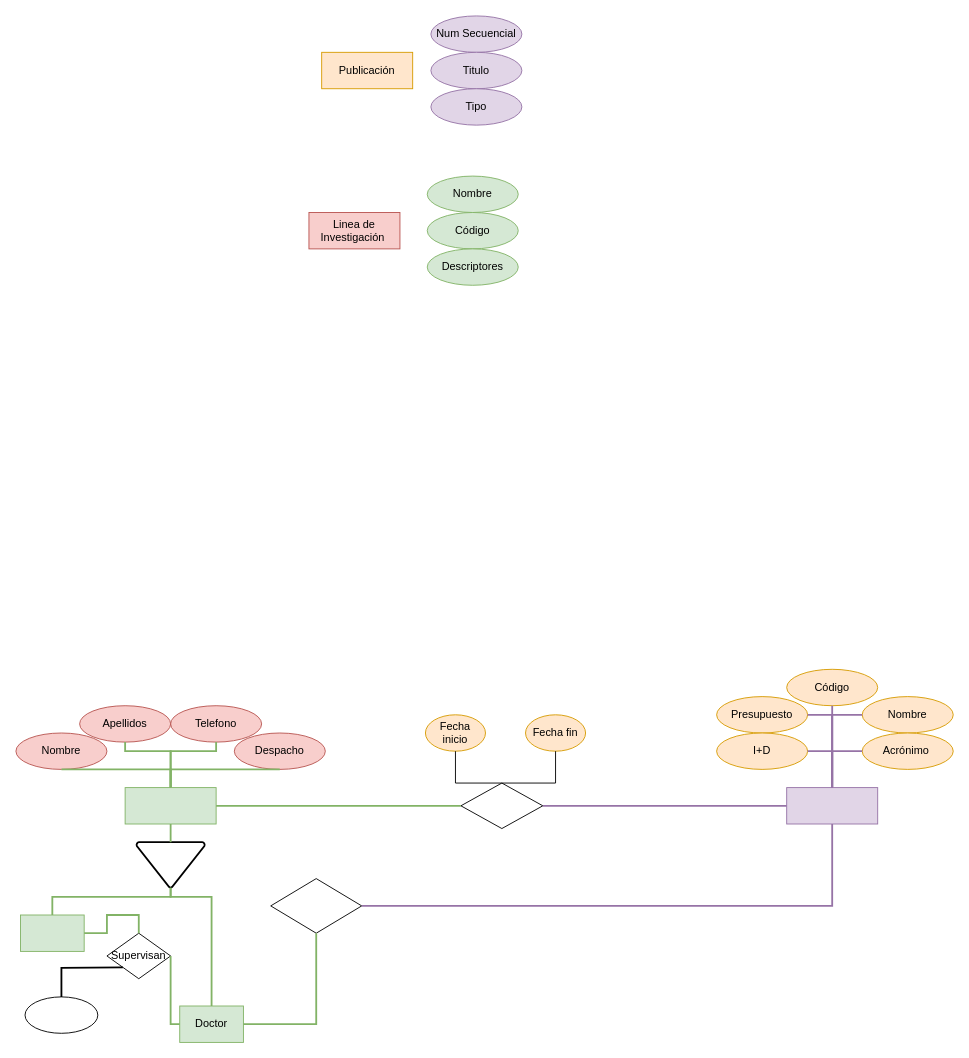
Image size: 969x1058. Some labels were removed from this diagram. The shapes that lost their labels are listed below. From the top down, each one's centre as x and y in pixels, then its label:
At (170,805): "Profesor".
At (501,805): "Participan".
At (832,805): "Proyecto de Investigación".
At (170,864): "Pueden ser".
At (316,905): "Investigador Principal".
At (52,932): "No Doctor".
At (61,1014): "Tiempo de supervisión".
